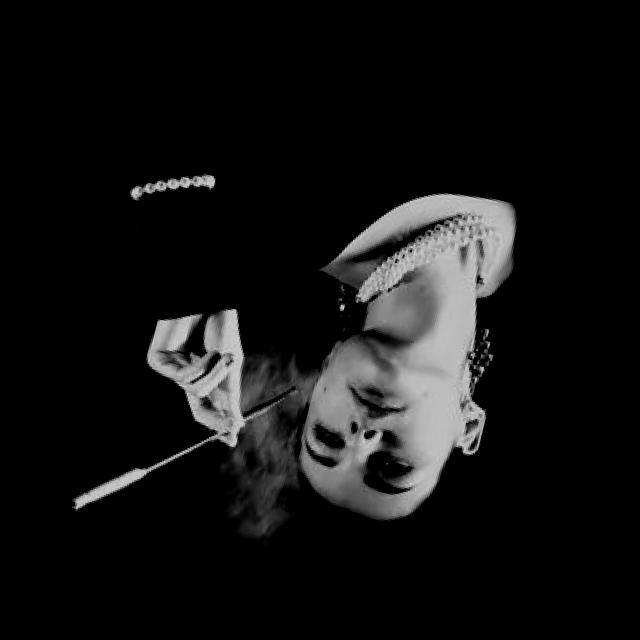smoke: (62, 448, 152, 532)
